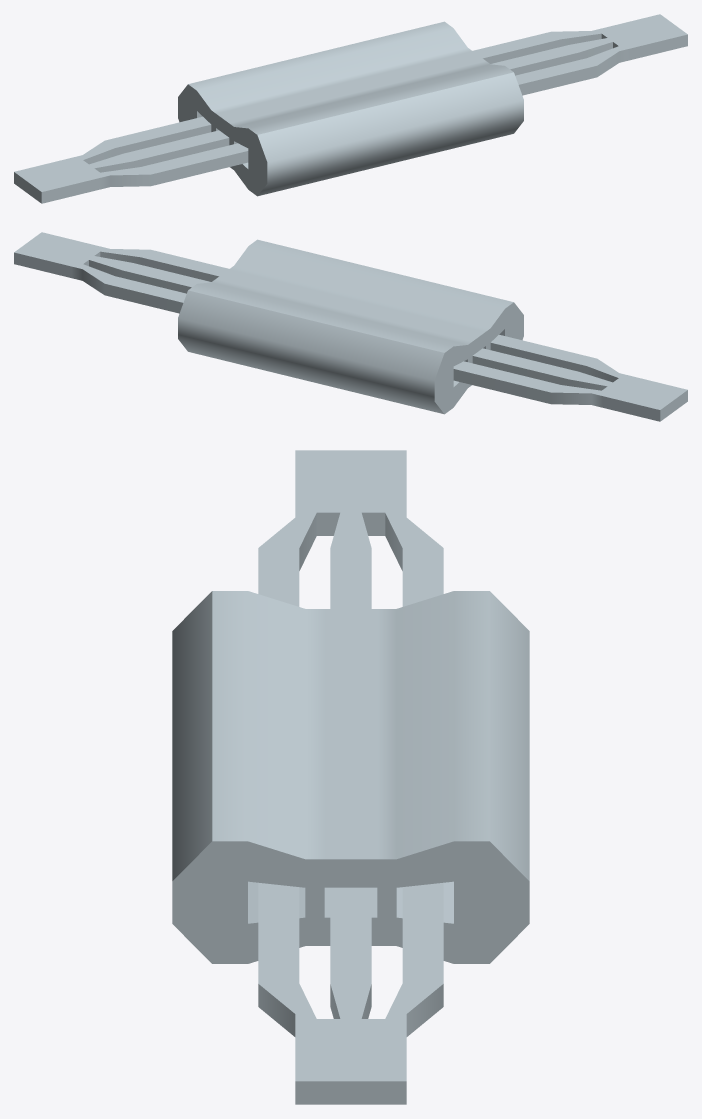
Rendered from WireObject.fbx.
3 views of the same model, one above another, from view 1: azimuth 30°, elevation 25°; view 2: azimuth 150°, elevation 25°; view 3: azimuth 270°, elevation 25° (orthographic). The views are drawn at different scales.
Parts seen in each view (by area): view 1: pWireC4; view 2: pWireC4; view 3: pWireC4.
Part boxes in pixels (bbox=[...]): pWireC4: bbox=[14, 14, 687, 203]; pWireC4: bbox=[14, 232, 687, 421]; pWireC4: bbox=[172, 450, 529, 1104].
Size of the model in its own units: 2.32 by 0.2104 by 0.5552.
